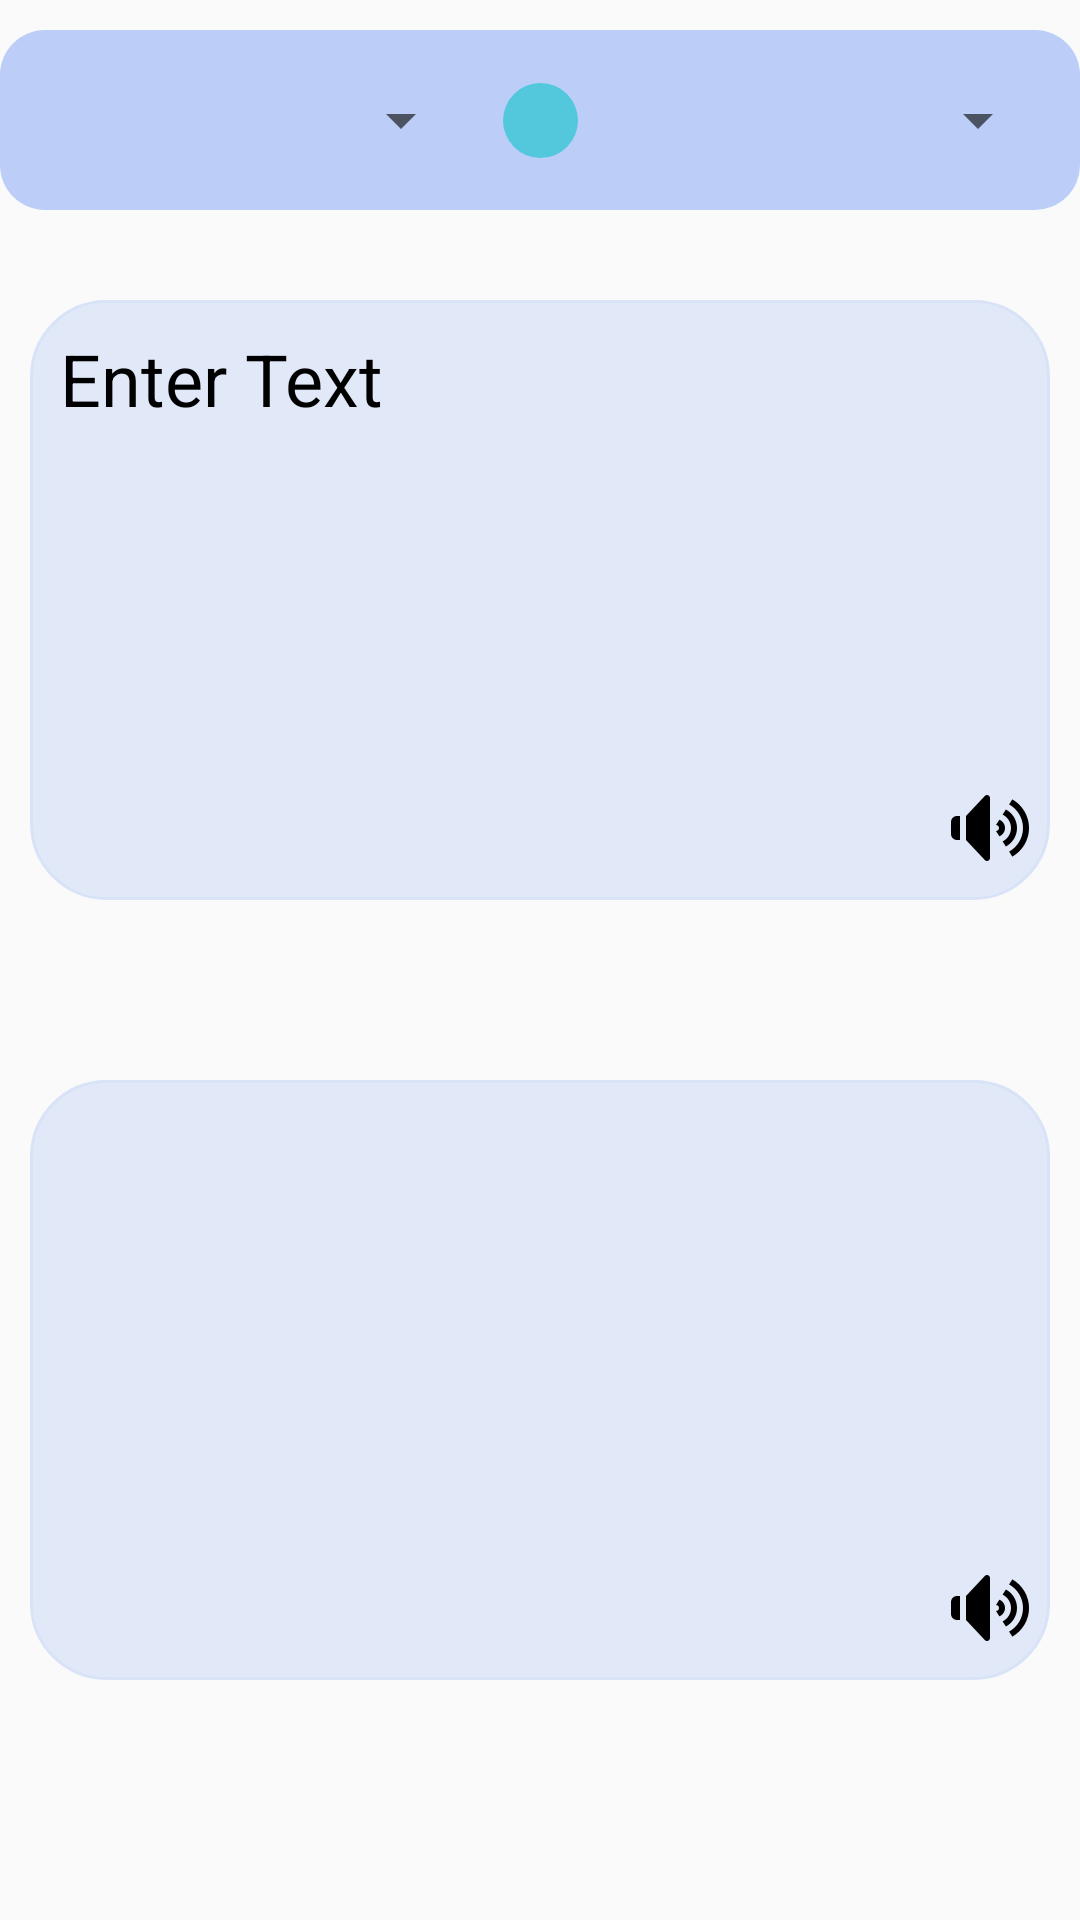

Named icons in this screenshot (1080 x 1920) and their centers, (x=x, y=y):
speaker: (x=990, y=828), (x=990, y=1608)
